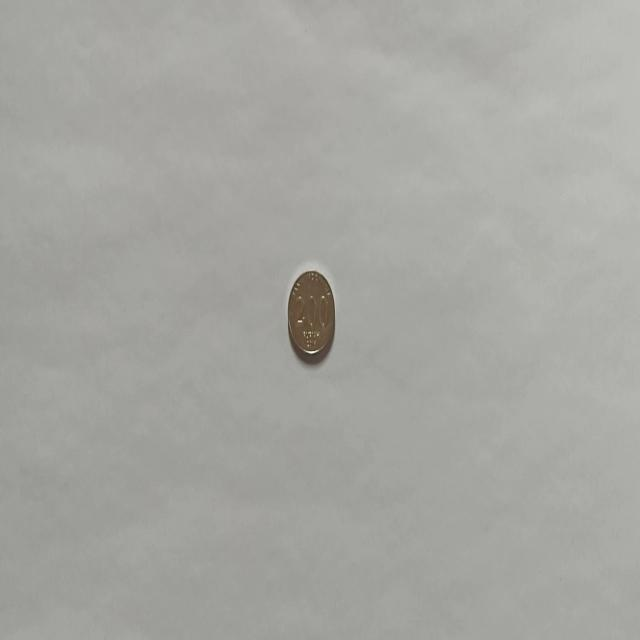dua ratus rupiah: (286, 268, 336, 362)
